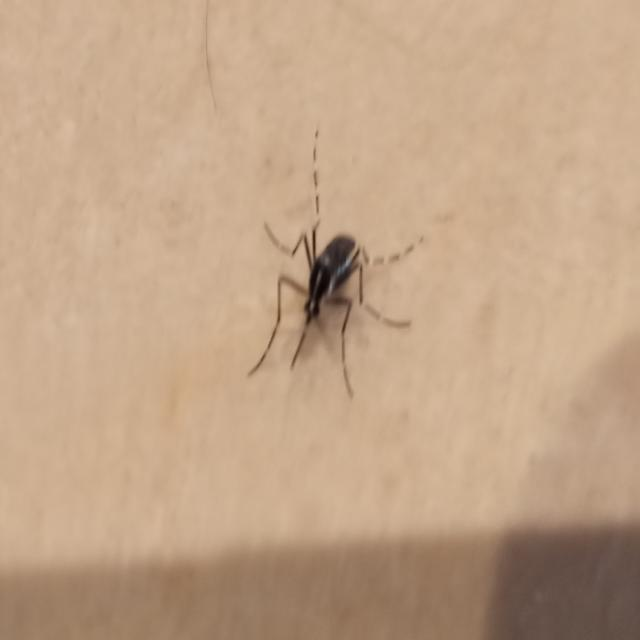albopictus: (242, 115, 423, 402)
